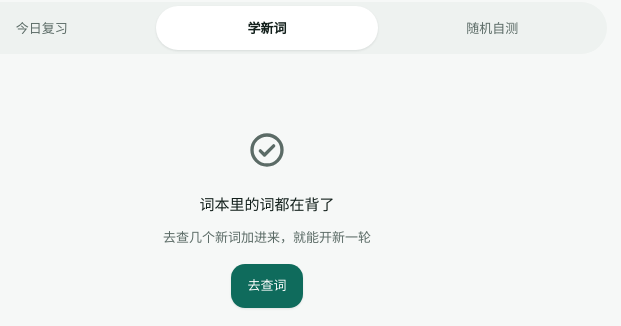
S-07~S-08 R-12③⑥ 队列空不是死路 › S-08 另两种无可学：new / selfTest 的定稿文案与 `去查词` 出口
Click the button "去查词" at (267,286), box top-left (232, 264), bottom-right (302, 308)
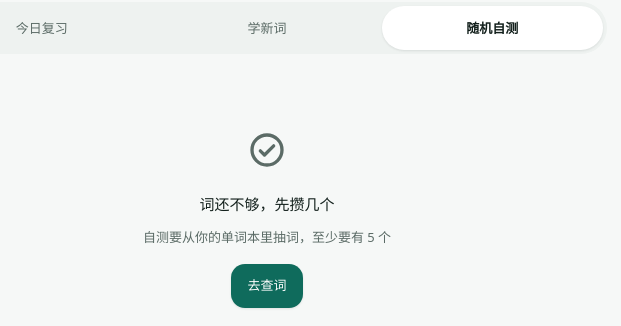
Expected: the element with test id "study-empty-selfTest" shows "词还不够，先攒几个", top-left (200, 194), bottom-right (334, 214)
Expected: the element with test id "study-empty-selfTest" shows "自测要从你的单词本里抽词，至少要有 5 个", top-left (143, 228), bottom-right (391, 246)
